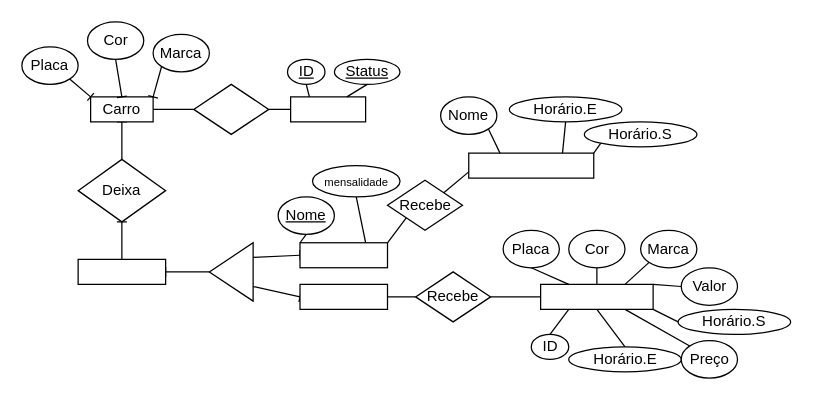
Some shapes in this 813 by 400 pixel diagram are drawn without their labels. Here are the shapes that lost their labels. From the top down, the centre of each, then its label:
the point at 230,108: Ocupa
the point at 327,109: Vaga
the point at 531,165: Comprovante.M
the point at 121,271: Cliente
the point at 343,255: Mensalista
the point at 343,296: Avulso
the point at 596,296: Comprovante
